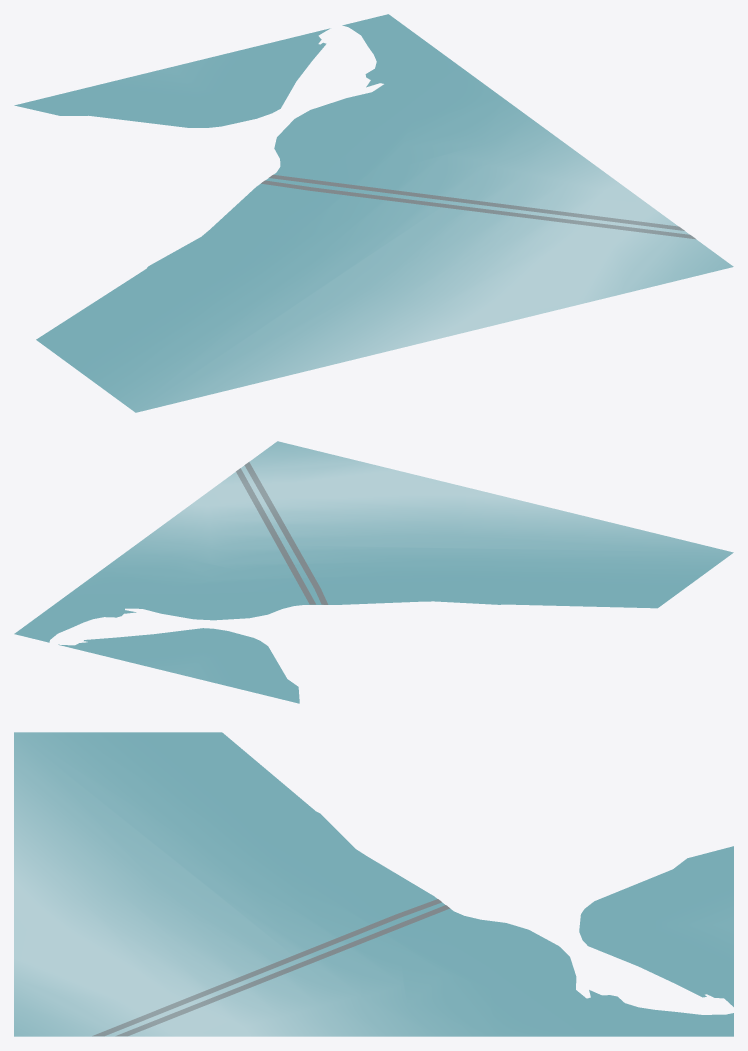
3 views of the same model, one above another, from view 1: azimuth 30°, elevation 25°; view 2: azimuth 150°, elevation 25°; view 3: azimuth 270°, elevation 25° (orthographic). The views are drawn at different scales.
Visible parts, largest first — view 1: city; view 2: city; view 3: city.
Boxes of the visible parts, left/top/right/bottom form: city: left=14, top=14, right=733, bottom=412; city: left=14, top=441, right=733, bottom=703; city: left=14, top=732, right=733, bottom=1036.
Bounding box in the file's own units: 500 × 0.24 × 500.
